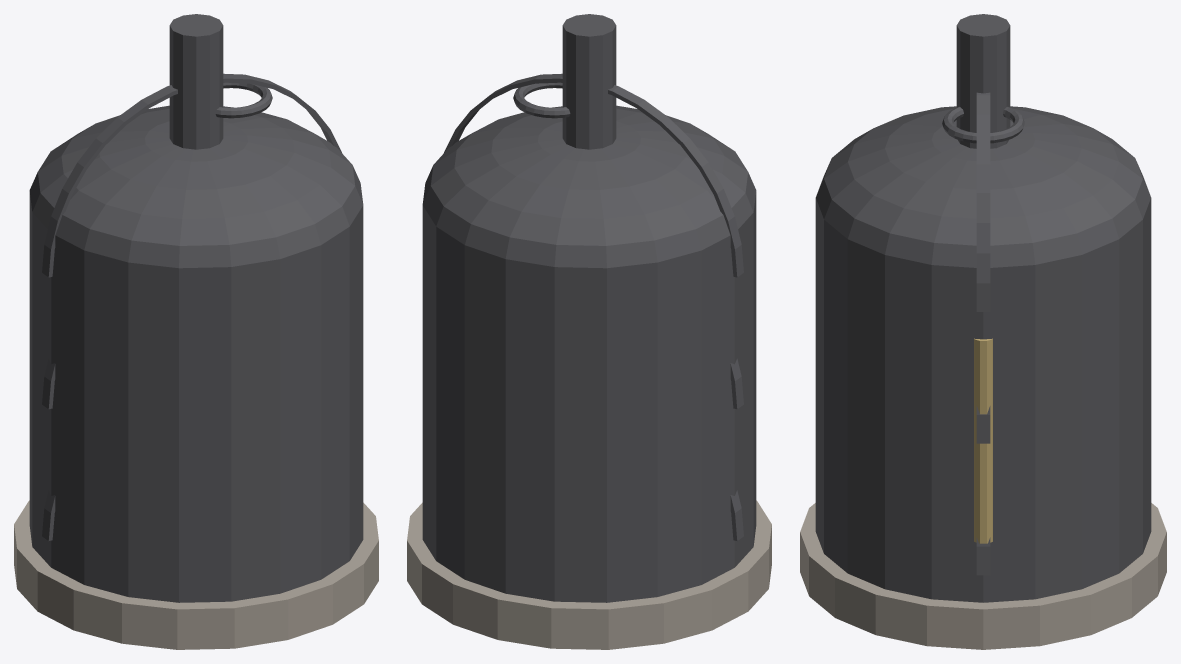
The picture shows the model from 3 angles, left to right: view 1: azimuth 30°, elevation 25°; view 2: azimuth 150°, elevation 25°; view 3: azimuth 270°, elevation 25°; orthographic projection.
Parts seen in each view (by area): view 1: boilerDrum; view 2: boilerDrum; view 3: boilerDrum.
Boxes of the visible parts, box(x1,y1,x2,y2) form: boilerDrum: box(14, 14, 378, 649); boilerDrum: box(407, 14, 771, 649); boilerDrum: box(800, 14, 1166, 649).
Size of the model in its own units: 1.64 by 2.7 by 1.64.
